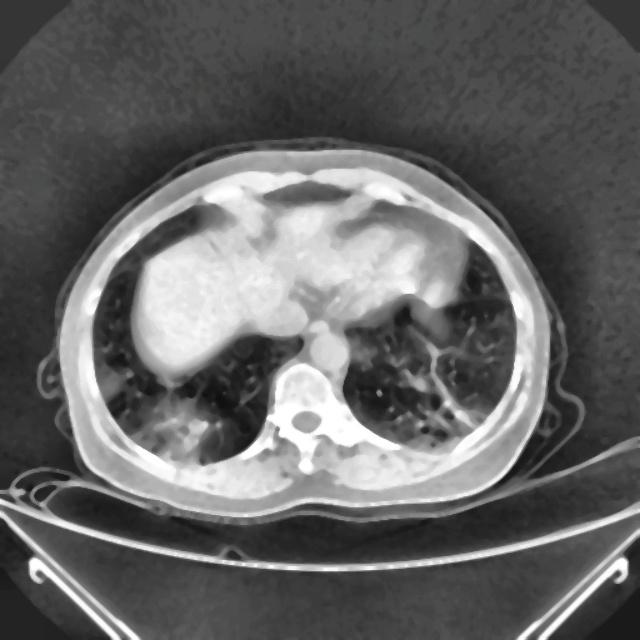covid: (56, 141, 558, 522)
